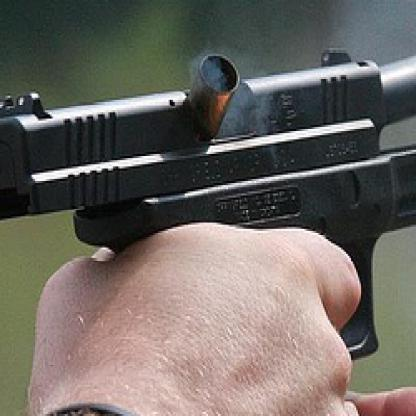gun: (0, 47, 415, 373)
